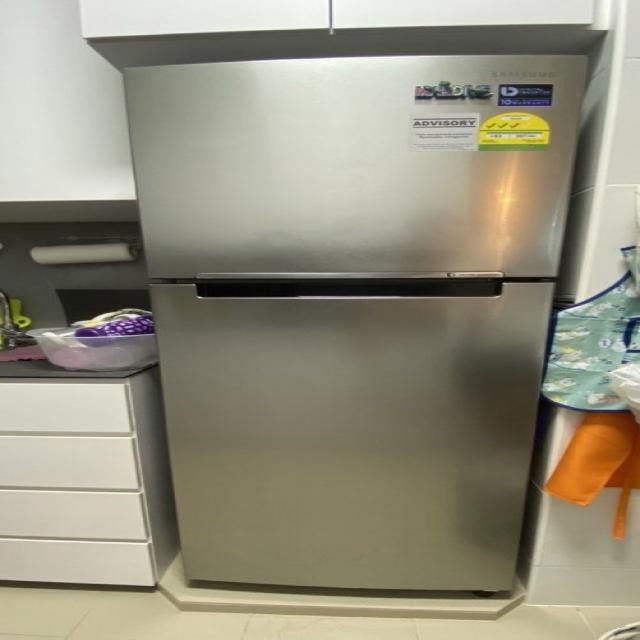refrigerator: (128, 51, 599, 594)
